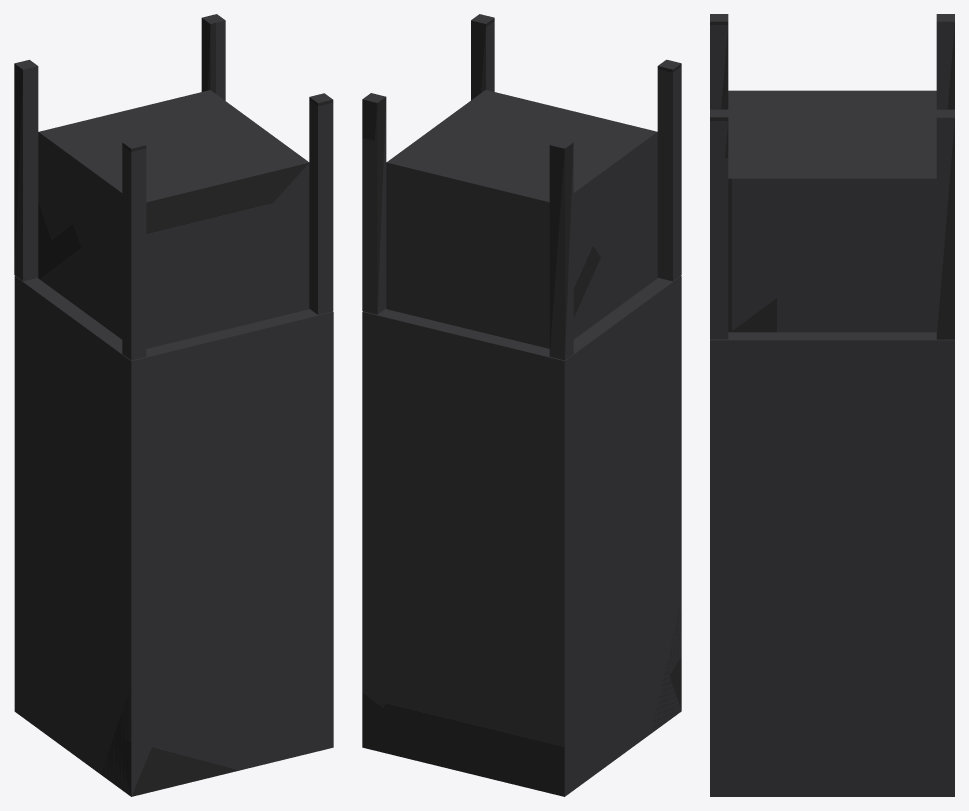
File: Tower2.obj
3 views of the same model, side by side, from view 1: azimuth 30°, elevation 25°; view 2: azimuth 150°, elevation 25°; view 3: azimuth 270°, elevation 25° (orthographic). The views are drawn at different scales.
Parts seen in each view (by area): view 1: Cube.008; view 2: Cube.008; view 3: Cube.008.
Boxes of the visible parts, <box> form: Cube.008: <box>14,14,333,796</box>; Cube.008: <box>362,14,681,796</box>; Cube.008: <box>710,14,954,796</box>.
Bounding box in the file's own units: 2 × 6.12 × 2.
